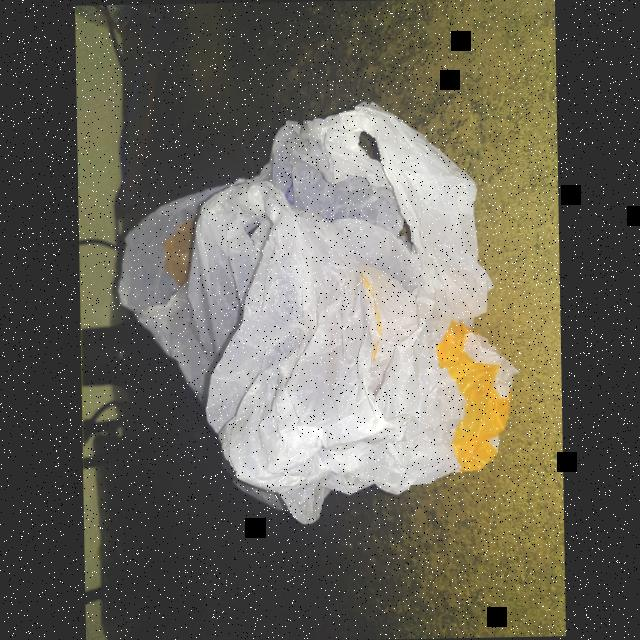plastic_bag: (108, 85, 528, 541)
